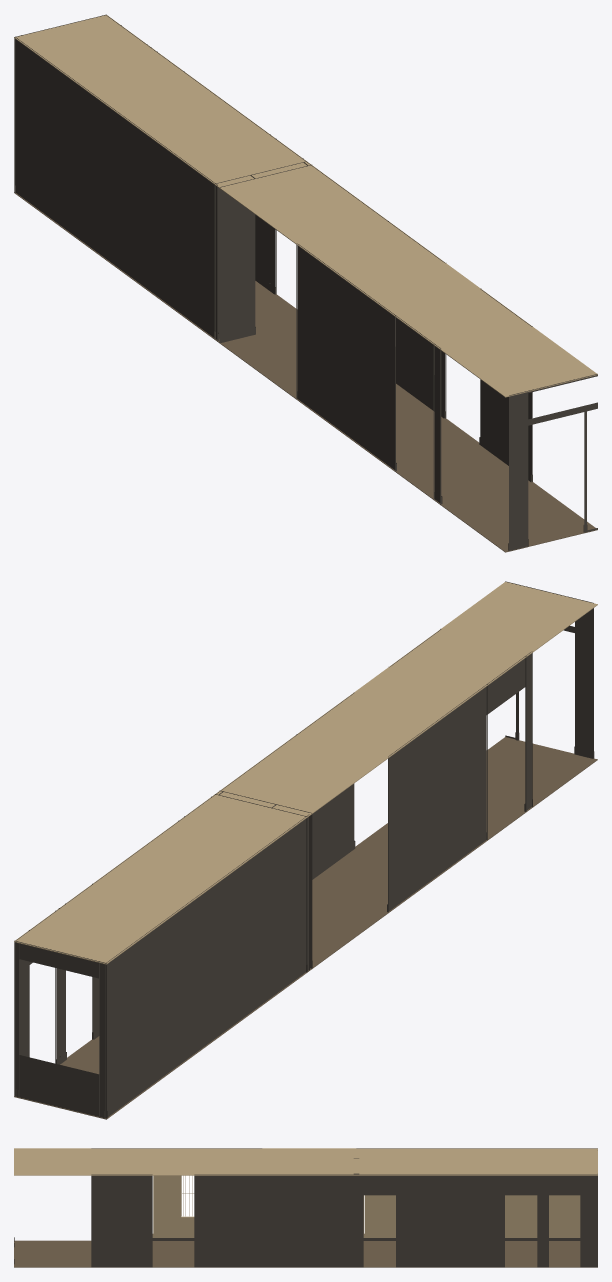
The model's file is corridor-2.glb.
3 views of the same model, one above another, from view 1: azimuth 30°, elevation 25°; view 2: azimuth 150°, elevation 25°; view 3: azimuth 270°, elevation 25° (orthographic). The views are drawn at different scales.
Visible parts, largest first — view 1: DESIGN | corridor removable wall finish, DESIGN | corridor ceiling finish, DESIGN | corridor floor finish; view 2: DESIGN | corridor removable wall finish, DESIGN | corridor ceiling finish, DESIGN | corridor floor finish; view 3: DESIGN | corridor removable wall finish, DESIGN | corridor ceiling finish, DESIGN | corridor floor finish, DESIGN | Shadow gallery full wall plane, DESIGN | Shadow gallery full wall plane.001, DESIGN | One fine illuminated screen diffuse backing, DESIGN | Kumiko | One fine illuminated screen.
Part boxes in pixels (<box>): DESIGN | corridor removable wall finish: <box>14,14,597,550</box>; DESIGN | corridor ceiling finish: <box>14,15,597,397</box>; DESIGN | corridor floor finish: <box>14,192,597,552</box>; DESIGN | corridor removable wall finish: <box>14,581,594,1118</box>; DESIGN | corridor ceiling finish: <box>14,582,597,964</box>; DESIGN | corridor floor finish: <box>14,737,597,1119</box>; DESIGN | corridor removable wall finish: <box>14,1148,597,1267</box>; DESIGN | corridor ceiling finish: <box>14,1148,597,1175</box>; DESIGN | corridor floor finish: <box>14,1240,597,1267</box>; DESIGN | Shadow gallery full wall plane: <box>363,1195,580,1237</box>; DESIGN | Shadow gallery full wall plane.001: <box>152,1175,194,1237</box>; DESIGN | One fine illuminated screen diffuse backing: <box>181,1175,194,1216</box>; DESIGN | Kumiko | One fine illuminated screen: <box>180,1175,194,1218</box>.
Size of the model in its own units: 1.7 by 2.74 by 15.63.
